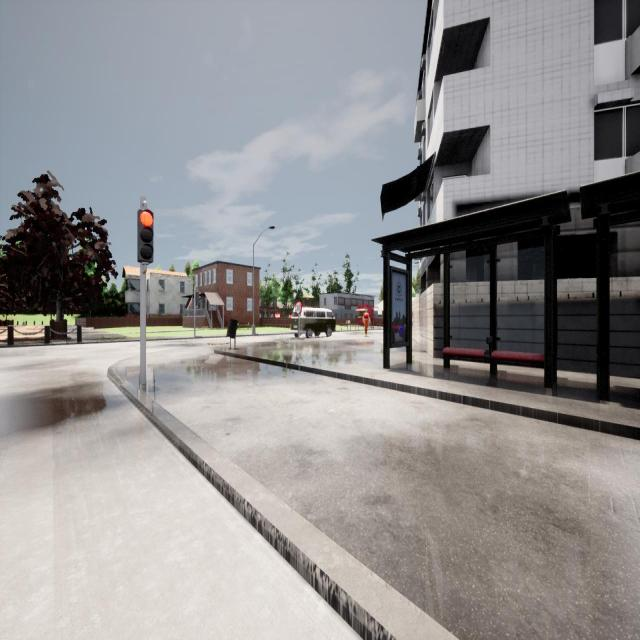Pedestrian: (362, 308, 372, 337)
Traffic_Signs: (294, 302, 302, 314)
Vehicle: (290, 308, 335, 338)
traffic_light: (138, 210, 153, 262), (196, 291, 200, 305)
